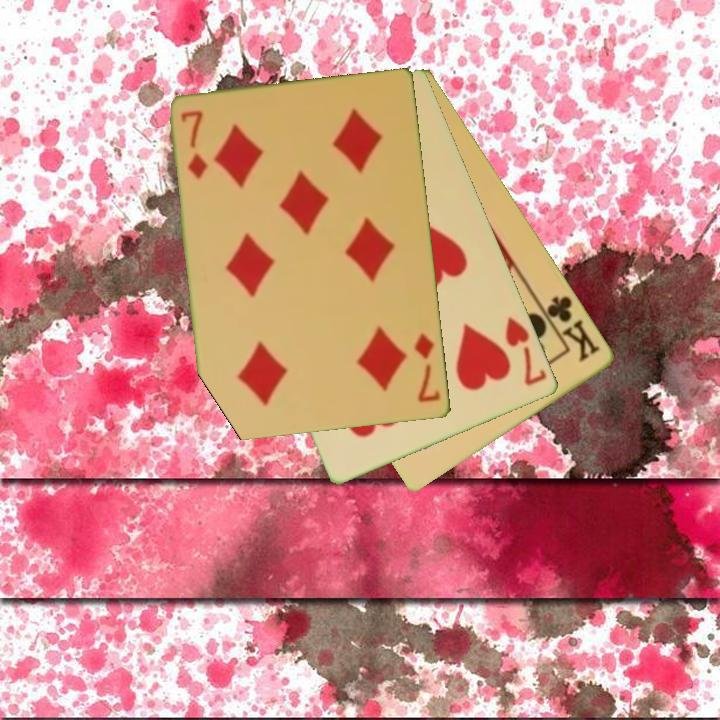7d: (177, 107, 211, 183), (411, 330, 444, 406)
7h: (502, 314, 551, 389)
Kc: (537, 292, 604, 366)
